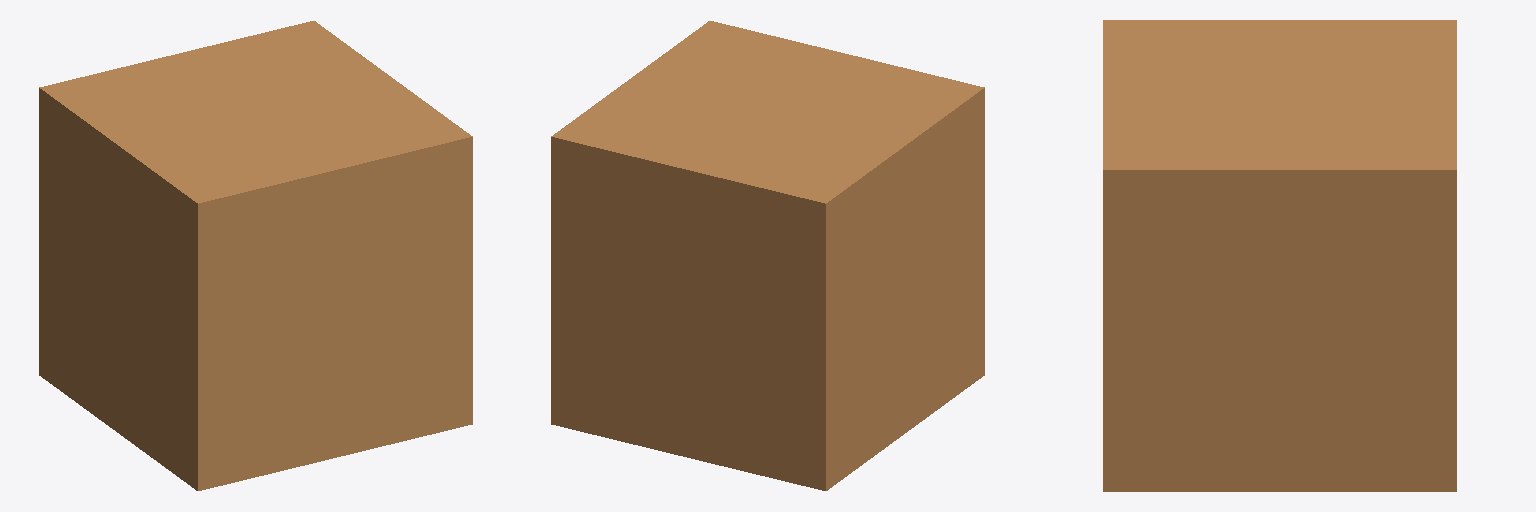
robot.urdf — Cube_large:
<?xml version="1.0"?>
                <robot name="Cube_large">
                <link name="base_link">
                    <visual>
                    <geometry>
                        <mesh filename="top_watertight_tiny.stl" scale="1.0 1.0 1.0"/>
                    </geometry>
                    <material name="object_material">
                        <color rgba="0.8 0.6 0.4 1.0"/>
                    </material>
                    </visual>
                    <collision>
                    <geometry>
                        <mesh filename="top_watertight_tiny.stl" scale="1.0 1.0 1.0"/>
                    </geometry>
                    </collision>
                    <inertial>
                    <mass value="1.0"/>
                    <inertia ixx="1.0" ixy="0.0" ixz="0.0" iyy="1.0" iyz="0.0" izz="1.0"/>
                    </inertial>
                </link>
                </robot>

--- Render facts (derived) ---
3 views of the same robot in one strip: view 1: azimuth 30°, elevation 25°; view 2: azimuth 150°, elevation 25°; view 3: azimuth 270°, elevation 25° (orthographic).
Model Cube_large with 1 links and 0 joints (none), rooted at base_link, posed all joints at 0.
Links seen in each view (by area): view 1: base_link; view 2: base_link; view 3: base_link.
Link boxes in pixels (x1,y1,x2,y2): base_link: (39, 21, 472, 490); base_link: (551, 21, 984, 490); base_link: (1103, 20, 1456, 491).
Bounding box of the posed robot: 0.12 × 0.12 × 0.12 m (x, y, z).
1 mesh visuals loaded from 1 distinct referenced files (1 binary STL).